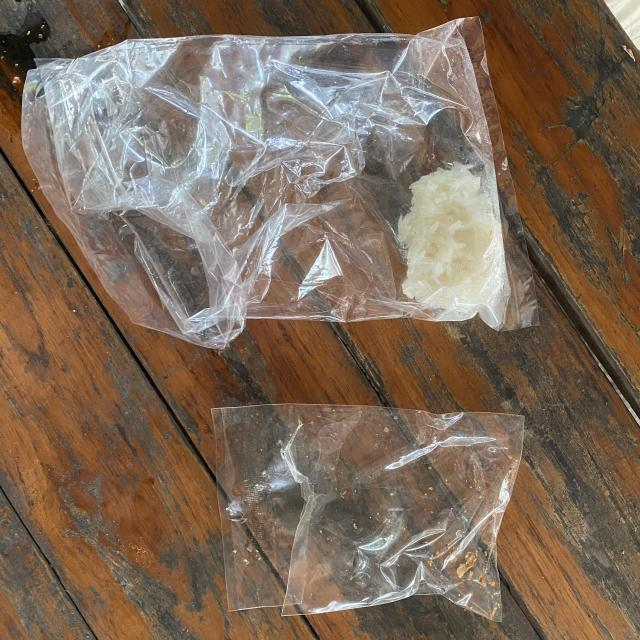Single-layer Plastic: (21, 18, 538, 349), (212, 404, 524, 621)
